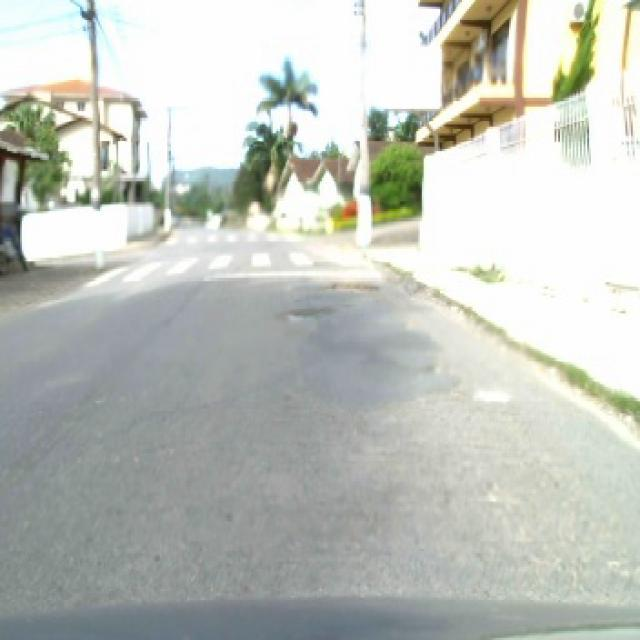Poth-hole: (280, 304, 335, 320), (327, 278, 380, 289), (471, 387, 509, 400), (422, 360, 444, 376)
